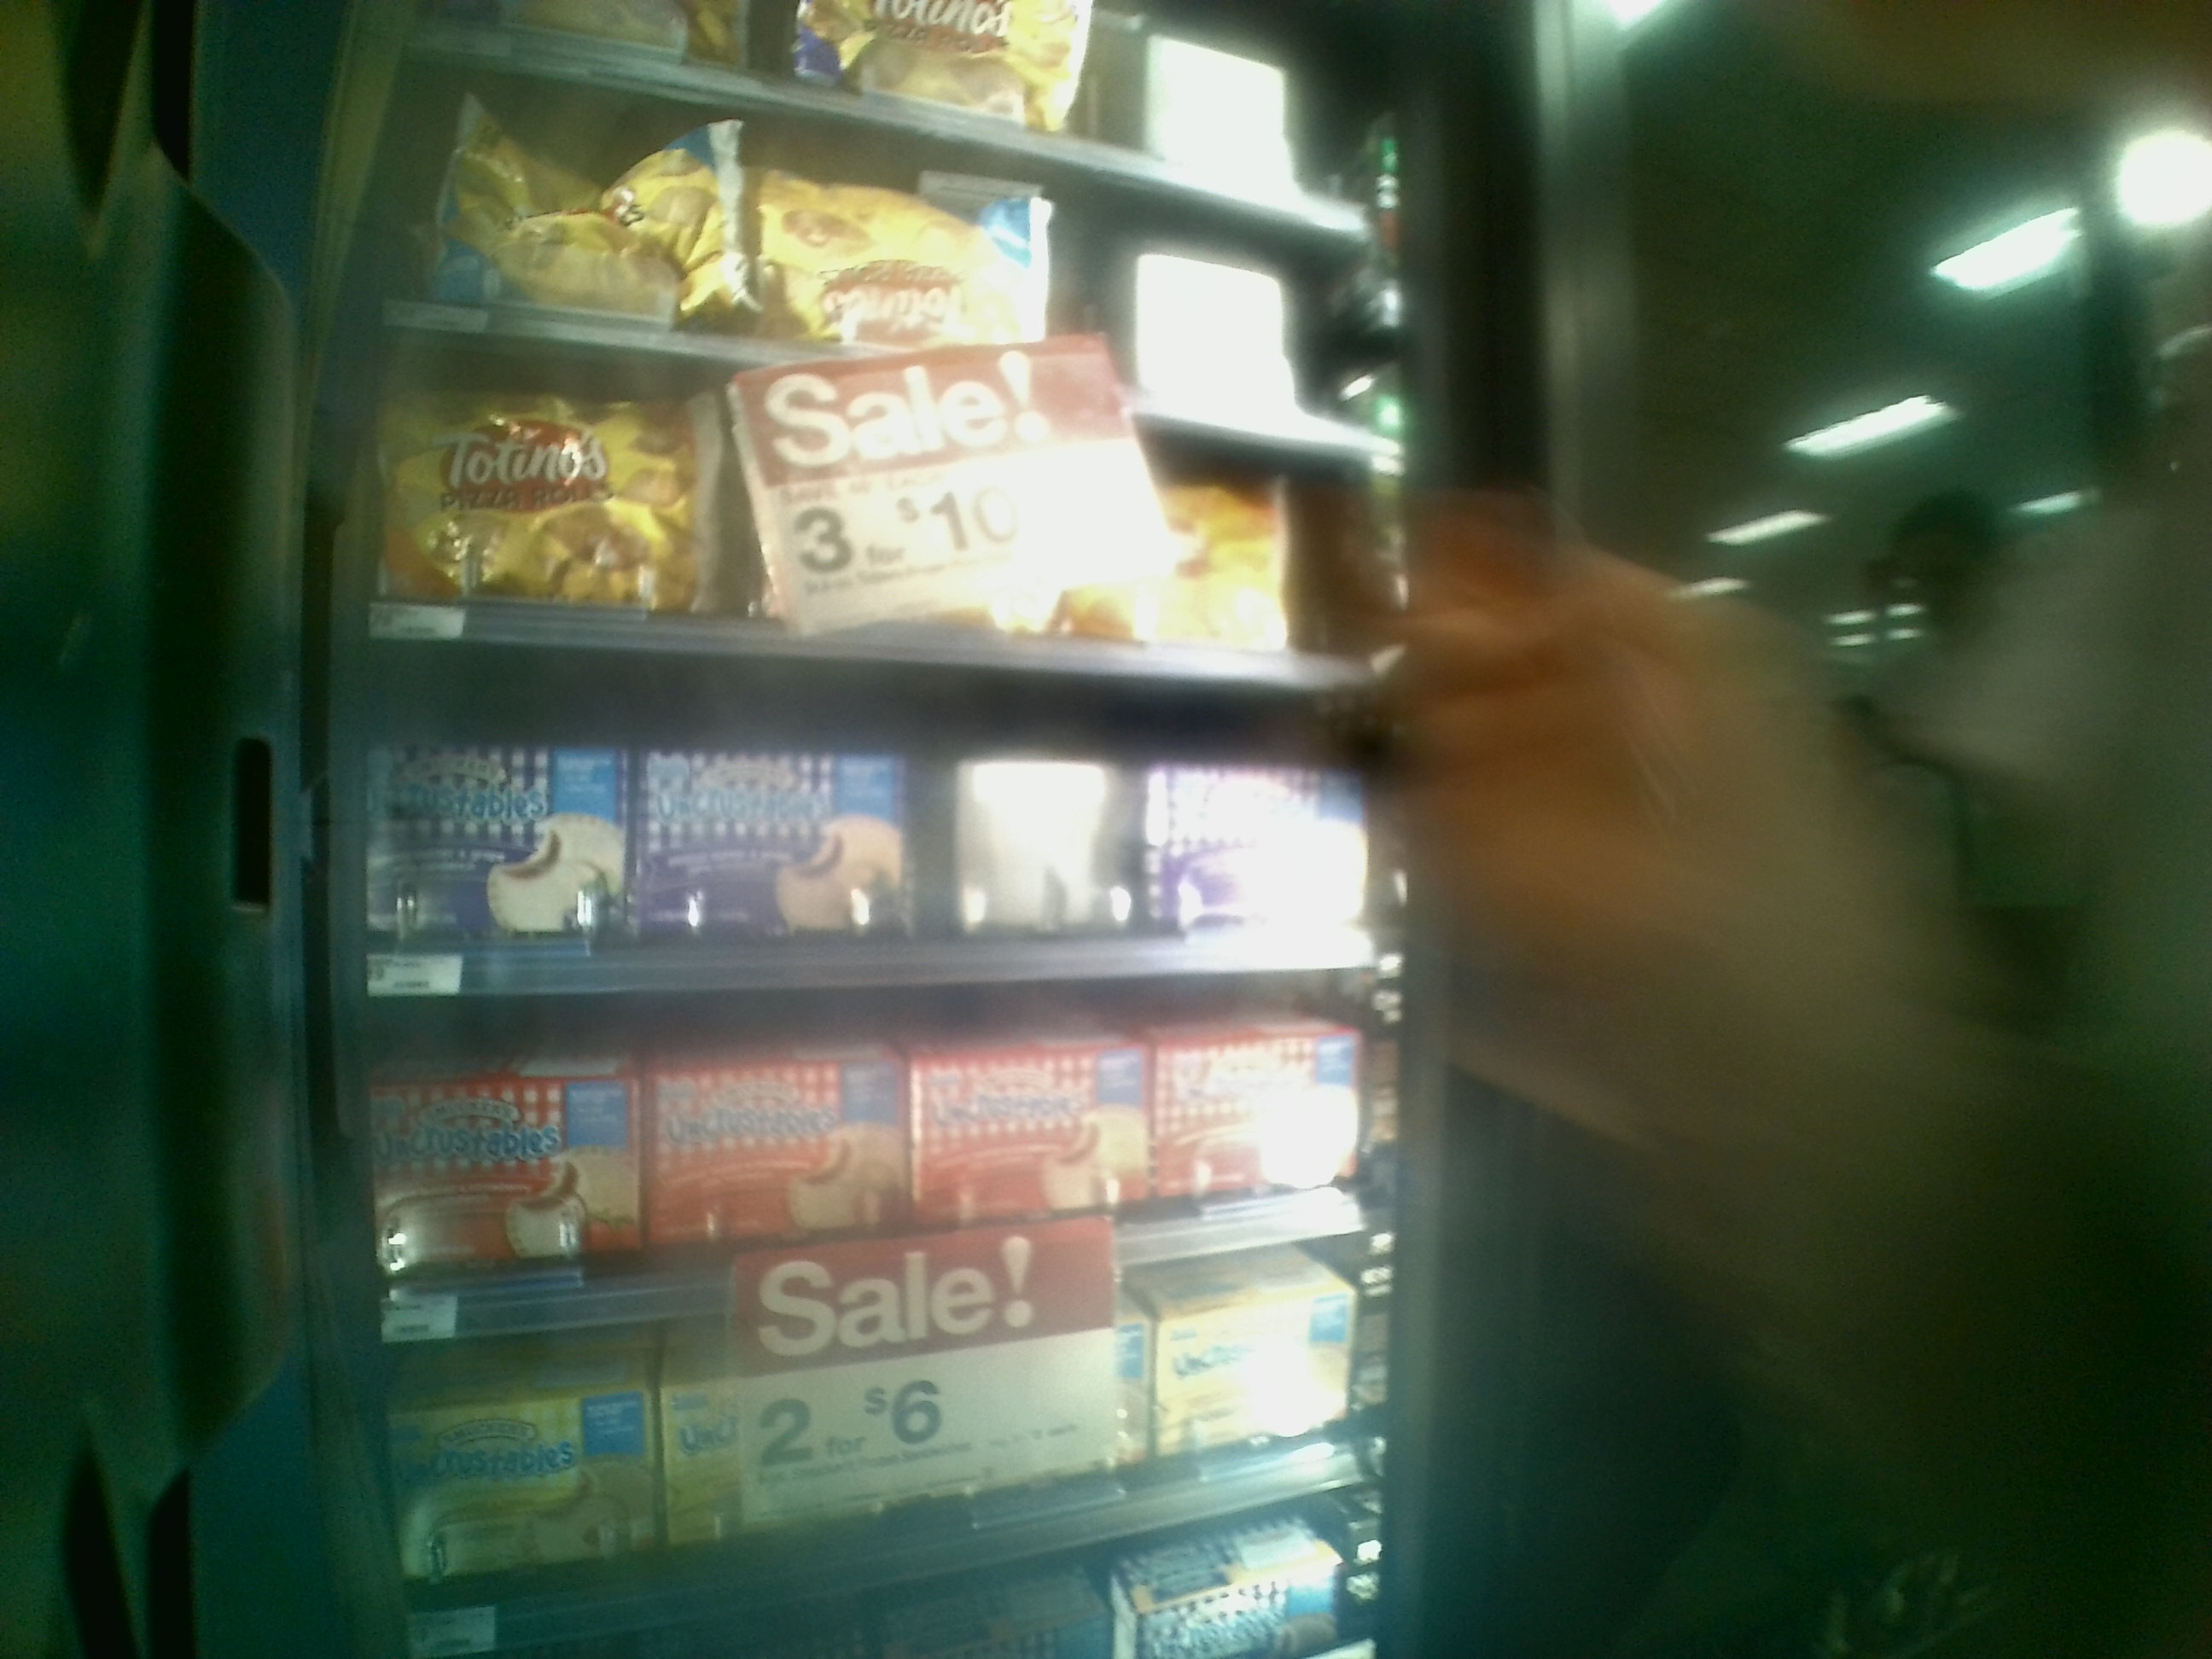shelf: (340, 669, 1404, 988), (369, 91, 1393, 415), (341, 373, 1406, 678), (334, 1000, 1383, 1288), (312, 1314, 1374, 1527)
